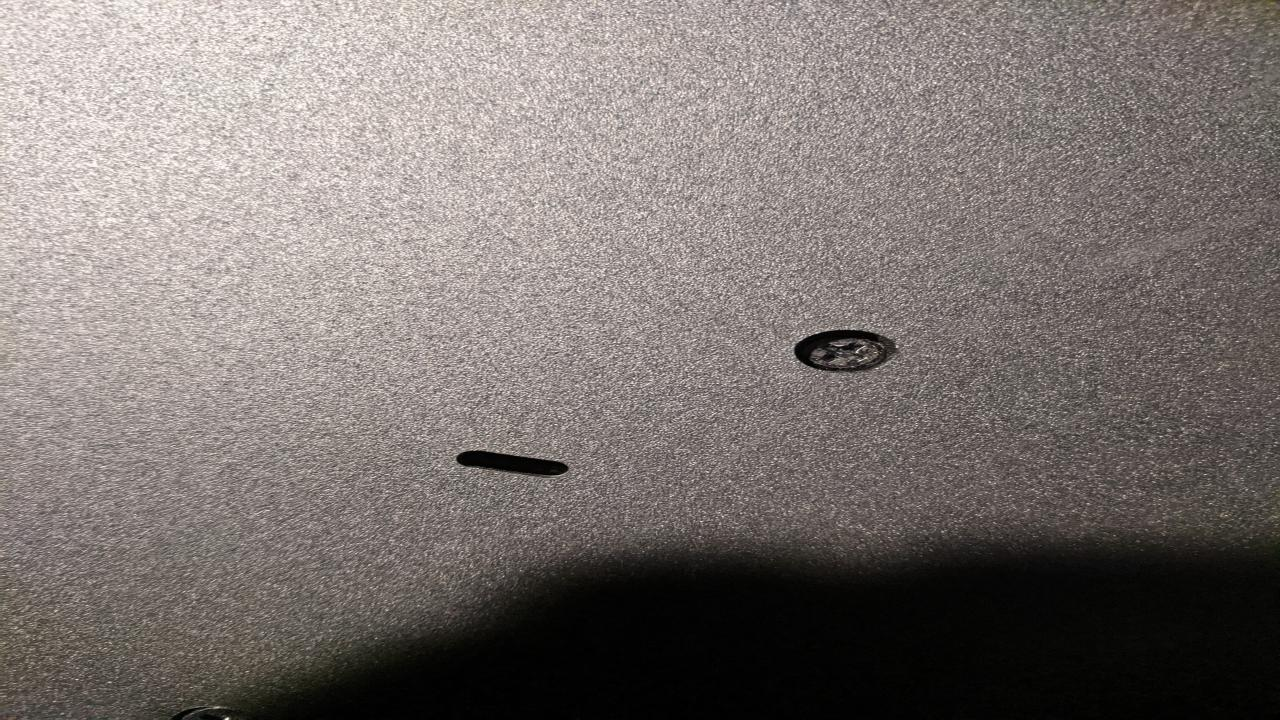CRS: (791, 329, 888, 372)
